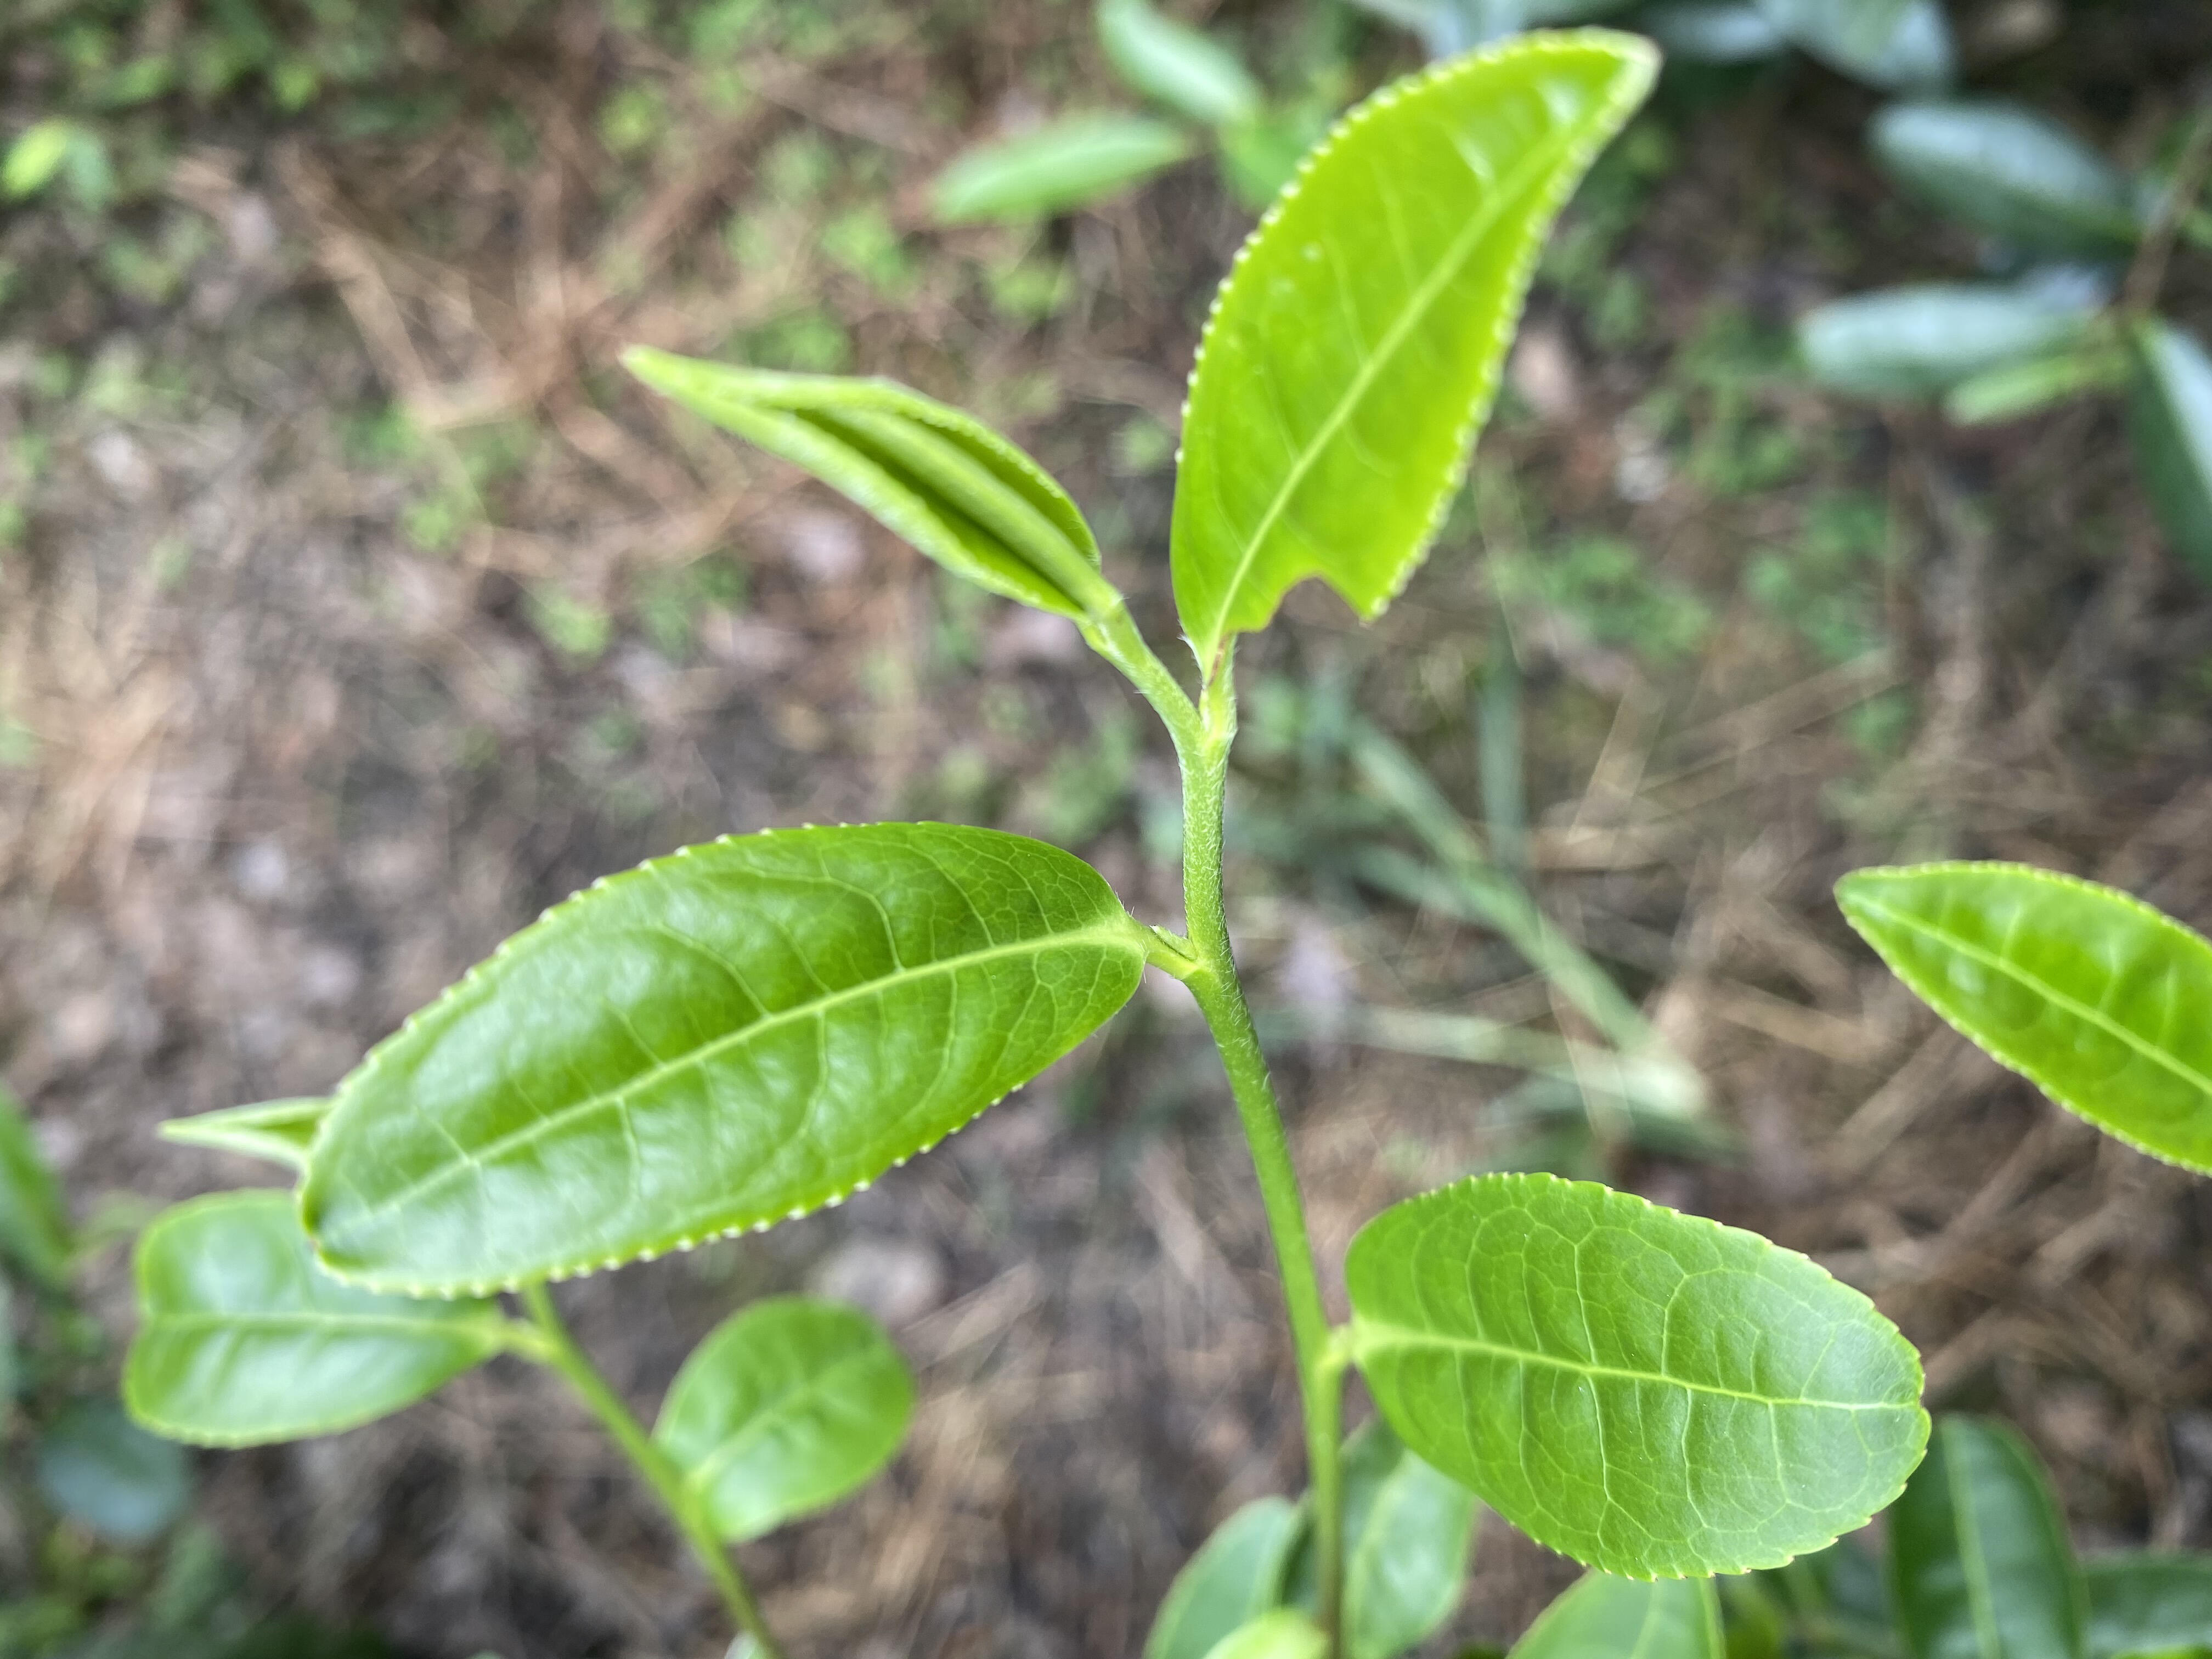chihuo_low: (1169, 30, 1663, 671)
healthy: (294, 817, 1148, 1304), (1345, 1162, 1935, 1582), (1831, 856, 2210, 1176)
